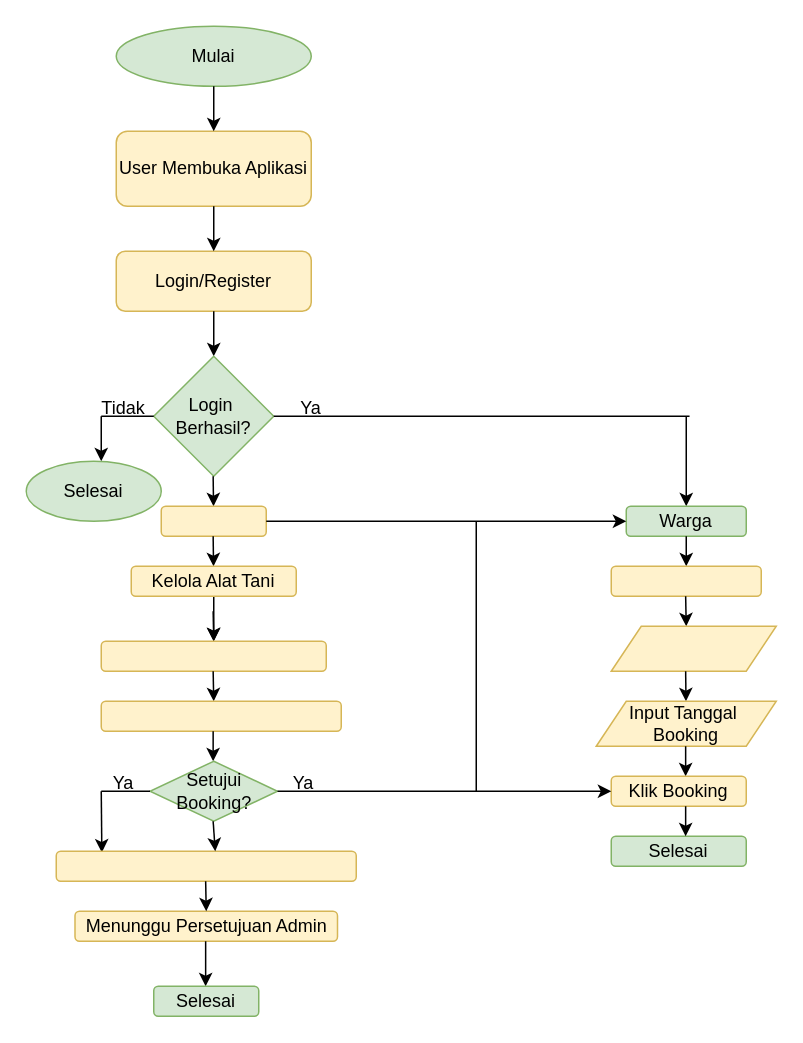
This 803x1043 diagram has some shape labels left out. Here are the shapes that lost their labels. From the top down, the centre of each, then its label:
At (213,520): "Dashboard".
At (685,580): "Lihat Daftar Alat".
At (213,655): "Tambah/Edit/Hapus Alat".
At (693,648): "Pilih Alat Tani".
At (220,715): "Melihat Permintaan Booking".
At (205,865): "Status Disetujui Status Ditolak".
